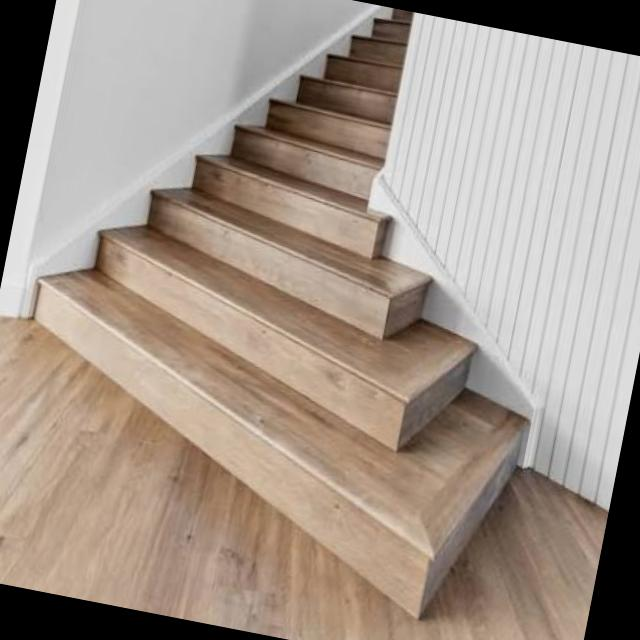Stairs: (14, 1, 556, 639)
